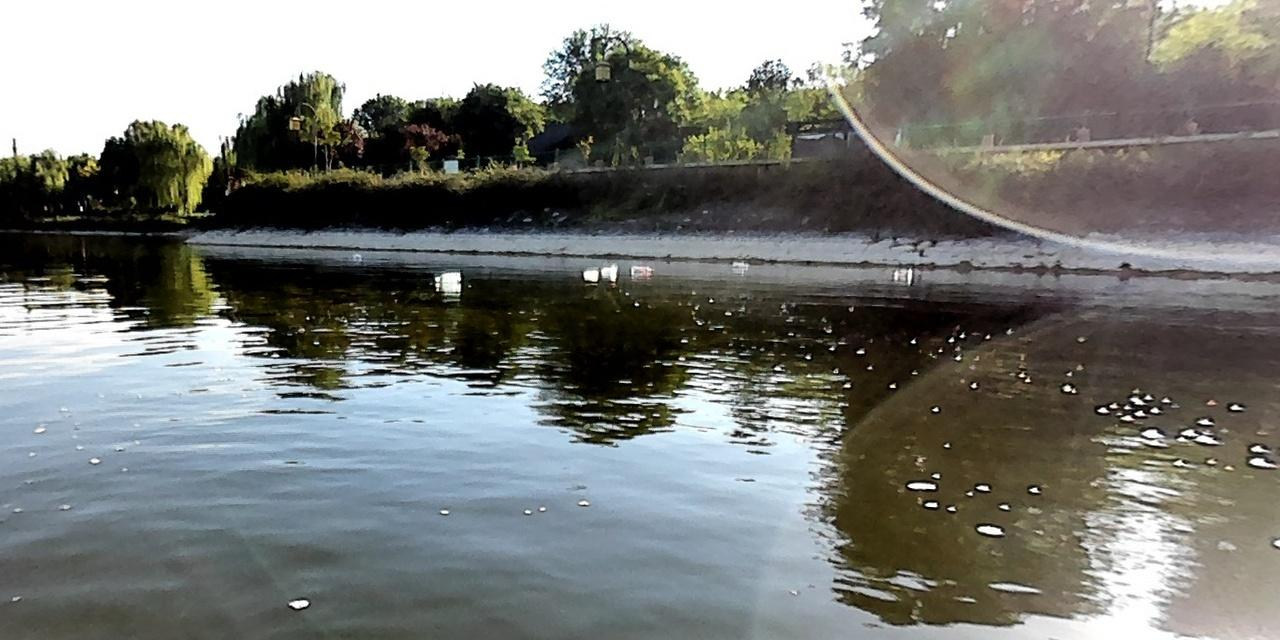bottle: (431, 267, 462, 284), (728, 257, 753, 270), (600, 260, 619, 275), (629, 263, 653, 274), (580, 266, 599, 276)
